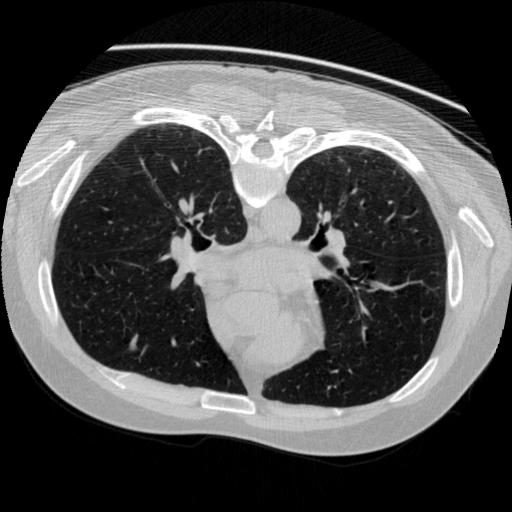nodule: (124, 335, 141, 352)
